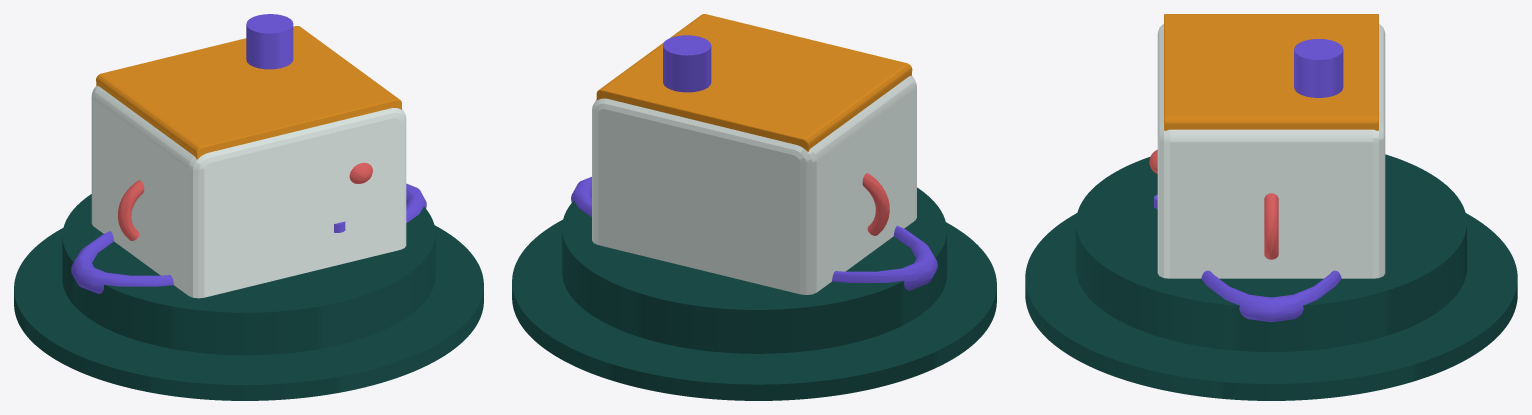
File: 0576_伟大的发明图鉴_胡克显微镜.glb
The picture shows the model from 3 angles, left to right: view 1: azimuth 30°, elevation 25°; view 2: azimuth 150°, elevation 25°; view 3: azimuth 270°, elevation 25°; orthographic projection. The views are drawn at different scales.
Visible parts, largest first — view 1: card_0576; view 2: card_0576; view 3: card_0576.
Part boxes in pixels (box(x1,y1,x2,y2)): card_0576: box(14, 14, 483, 400); card_0576: box(512, 14, 996, 400); card_0576: box(1025, 14, 1517, 400).
Bounding box in the file's own units: 1.61 × 1 × 1.58.
